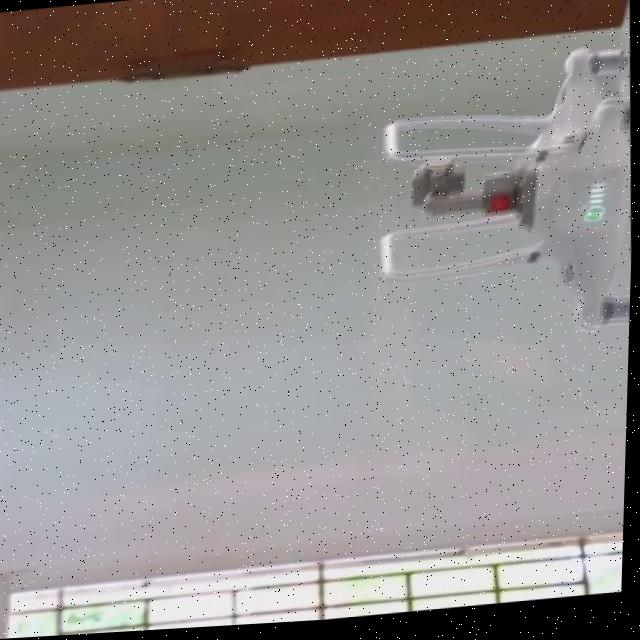drones: (309, 50, 638, 394)
